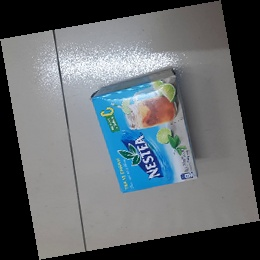Nestea: (88, 67, 198, 195)
